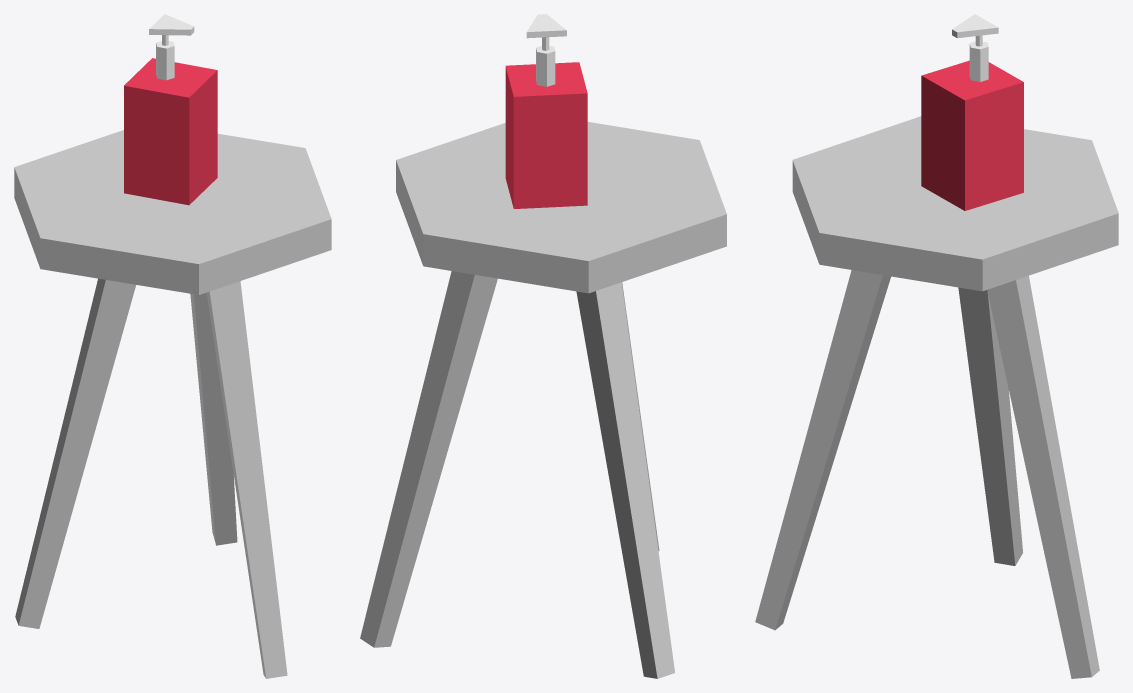
File: p_tabure.obj
3 renders of one model, left to right at view 1: azimuth 30°, elevation 25°; view 2: azimuth 150°, elevation 25°; view 3: azimuth 270°, elevation 25°, orthographic. The views are drawn at different scales.
Parts seen in each view (by area): view 1: chair.012_m_beyaz, liquid_soap.011_m_koyupembe, liquid_soap.011_m_white; view 2: chair.012_m_beyaz, liquid_soap.011_m_koyupembe, liquid_soap.011_m_white; view 3: chair.012_m_beyaz, liquid_soap.011_m_koyupembe, liquid_soap.011_m_white.
Part boxes in pixels (x1=…): chair.012_m_beyaz: x1=14, y1=130, x2=331, y2=678; liquid_soap.011_m_koyupembe: x1=124, y1=58, x2=217, y2=205; liquid_soap.011_m_white: x1=149, y1=14, x2=194, y2=80; chair.012_m_beyaz: x1=360, y1=122, x2=726, y2=678; liquid_soap.011_m_koyupembe: x1=505, y1=62, x2=587, y2=208; liquid_soap.011_m_white: x1=526, y1=14, x2=566, y2=86; chair.012_m_beyaz: x1=755, y1=116, x2=1118, y2=678; liquid_soap.011_m_koyupembe: x1=921, y1=60, x2=1023, y2=210; liquid_soap.011_m_white: x1=952, y1=14, x2=998, y2=81.
Size of the model in its own units: 7.5 by 14.33 by 7.88.
